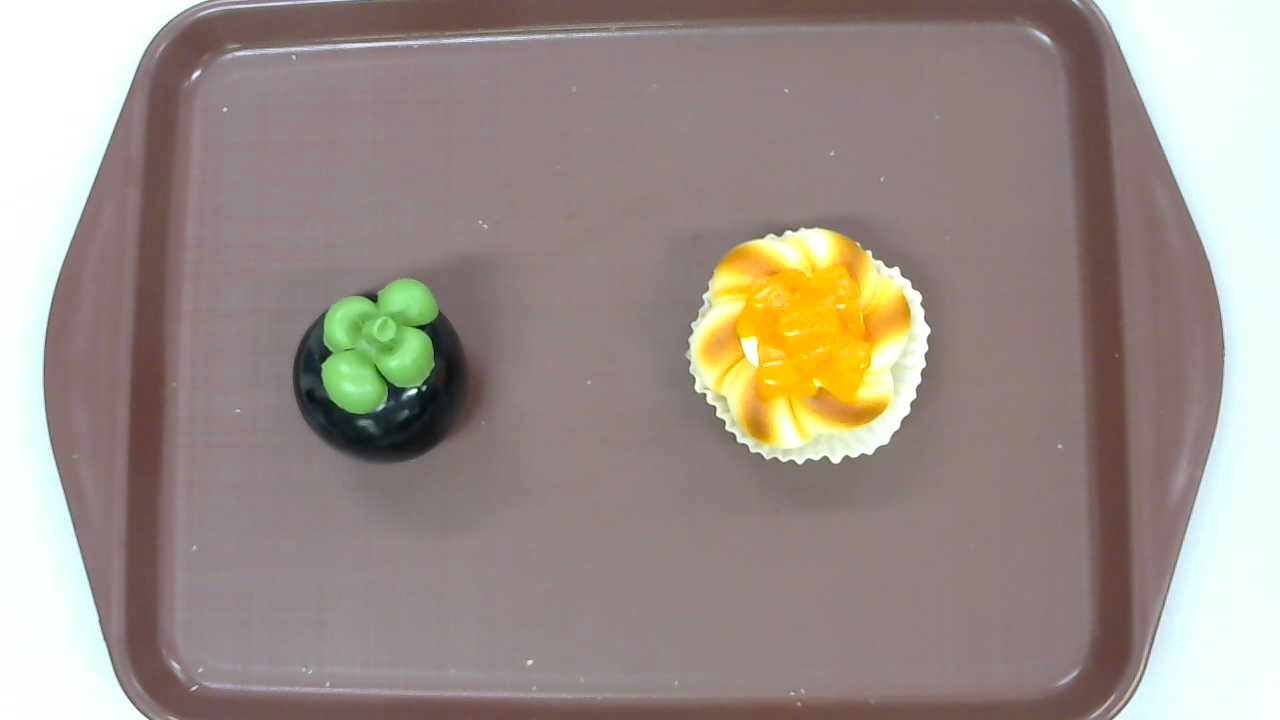mango tart: (685, 226, 933, 466)
mangosteen: (292, 277, 468, 463)
